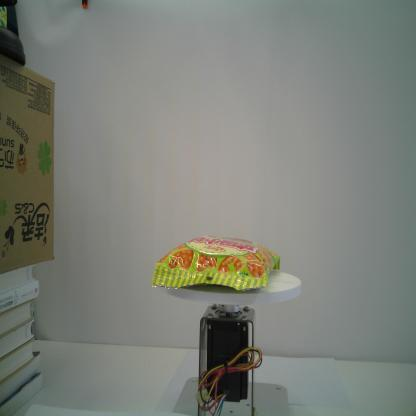Puffed Food: (150, 233, 280, 292)
